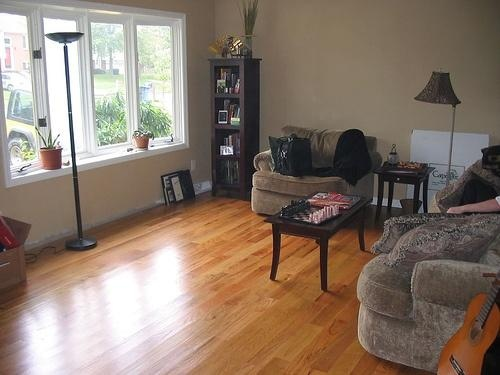chair: (252, 126, 375, 216)
pottedplant: (34, 127, 66, 170), (132, 124, 153, 151)
sofa: (360, 153, 500, 370)
